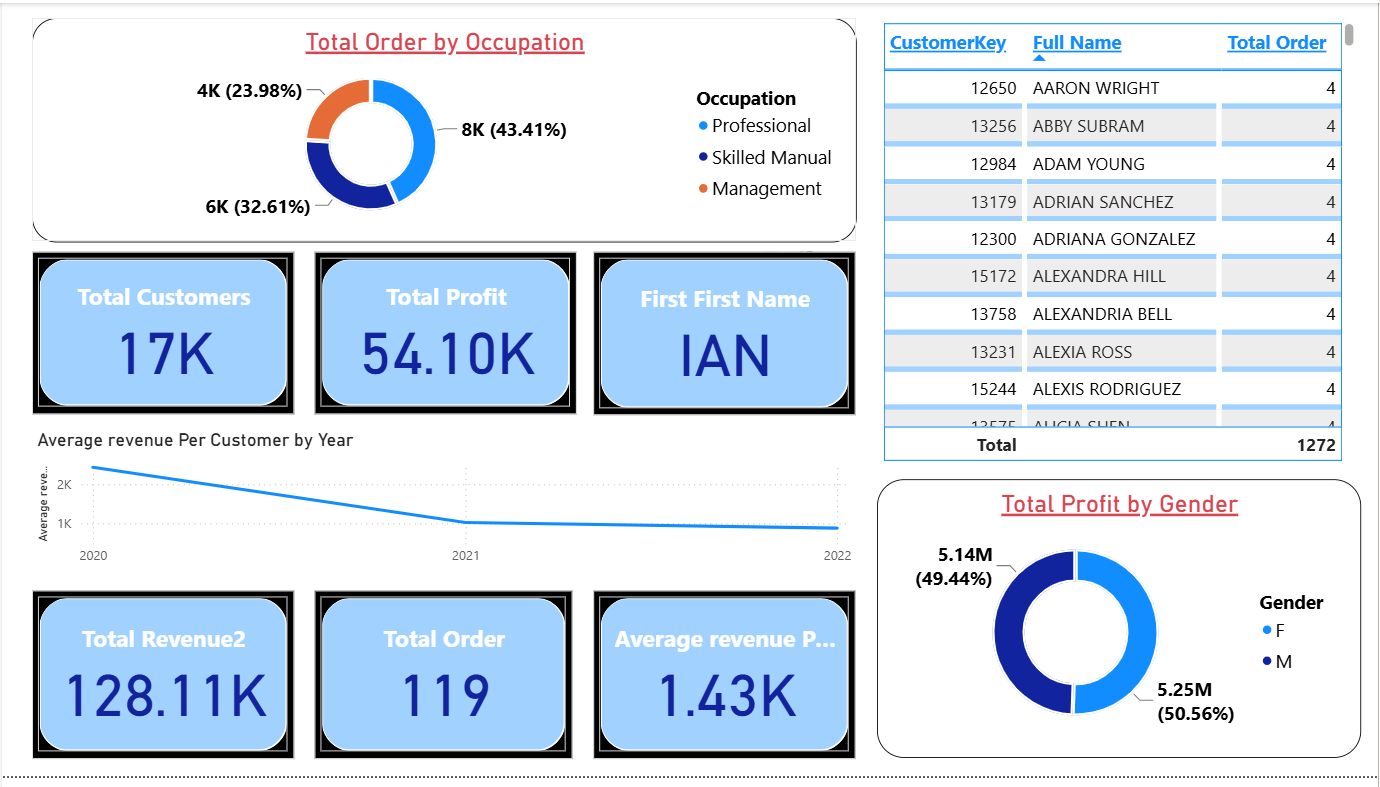

The page's visual inventory and layout, read from the dashboard file:
{"tool":"powerbi","page":{"name":"Page 2","canvas":[1280,720],"ordinal":1},"visuals":[{"type":"donutChart","fields":{"Category":["Customer Lookup.Occupation"],"Y":["Measure Table.Total Order"]},"box":[27.4,13.7,767.1,208.6],"z":0},{"type":"donutChart","fields":{"Category":["Customer Lookup.Gender"],"Y":["Measure Table.Total Profit"]},"box":[813.7,443.2,450.1,259.3],"z":1000},{"type":"tableEx","fields":{"Values":["Customer Lookup.CustomerKey","Customer Lookup.Full Name","Measure Table.Total Order"]},"box":[813.7,13.7,448.7,417.2],"z":2000},{"type":"cardVisual","fields":{"Data":["Measure Table.Total Revenue2"]},"box":[27.4,546.1,244.3,156.4],"z":3000},{"type":"cardVisual","fields":{"Data":["Measure Table.Total Order"]},"box":[290.9,546.1,240.1,156.4],"z":4000},{"type":"cardVisual","fields":{"Data":["Measure Table.Total Profit"]},"box":[290.9,231.9,244.3,150.9],"z":5000},{"type":"cardVisual","fields":{"Data":["Min(Customer Lookup.First Name)"]},"box":[550.3,231.9,244.3,152.3],"z":6000},{"type":"cardVisual","fields":{"Data":["Measure Table.Total Customers"]},"box":[27.4,231.9,244.3,150.9],"z":7000},{"type":"cardVisual","fields":{"Data":["Measure Table.Average revenue Per Customer"]},"box":[550.3,546.1,244.3,156.4],"z":8000},{"type":"lineChart","fields":{"Category":["Calendar Lookup.Start of Month.Variation.Date Hierarchy.Year","Calendar Lookup.Start of Month.Variation.Date Hierarchy.Quarter","Calendar Lookup.Start of Month.Variation.Date Hierarchy.Month","Calendar Lookup.Start of Month.Variation.Date Hierarchy.Day"],"Y":["Measure Table.Average revenue Per Customer"]},"box":[27.4,396.6,767.1,135.8],"z":9000}]}

Visuals, with their boxes in screenshot pixels (x1, y1, x2, y2), scaled from the page's 1280x720 canvas onto the 1380x787 screenshot:
donutChart - Customer Lookup.Occupation x Measure Table.Total Order: [left=30, top=15, right=857, bottom=243]
donutChart - Customer Lookup.Gender x Measure Table.Total Profit: [left=877, top=484, right=1363, bottom=768]
tableEx - Customer Lookup.CustomerKey x Customer Lookup.Full Name: [left=877, top=15, right=1361, bottom=471]
cardVisual - Measure Table.Total Revenue2: [left=30, top=597, right=293, bottom=768]
cardVisual - Measure Table.Total Order: [left=314, top=597, right=572, bottom=768]
cardVisual - Measure Table.Total Profit: [left=314, top=253, right=577, bottom=418]
cardVisual - Min(Customer Lookup.First Name): [left=593, top=253, right=857, bottom=420]
cardVisual - Measure Table.Total Customers: [left=30, top=253, right=293, bottom=418]
cardVisual - Measure Table.Average revenue Per Customer: [left=593, top=597, right=857, bottom=768]
lineChart - Calendar Lookup.Start of Month.Variation.Date Hierarchy.Year x Calendar Lookup.Start of Month.Variation.Date Hierarchy.Quarter: [left=30, top=434, right=857, bottom=582]
